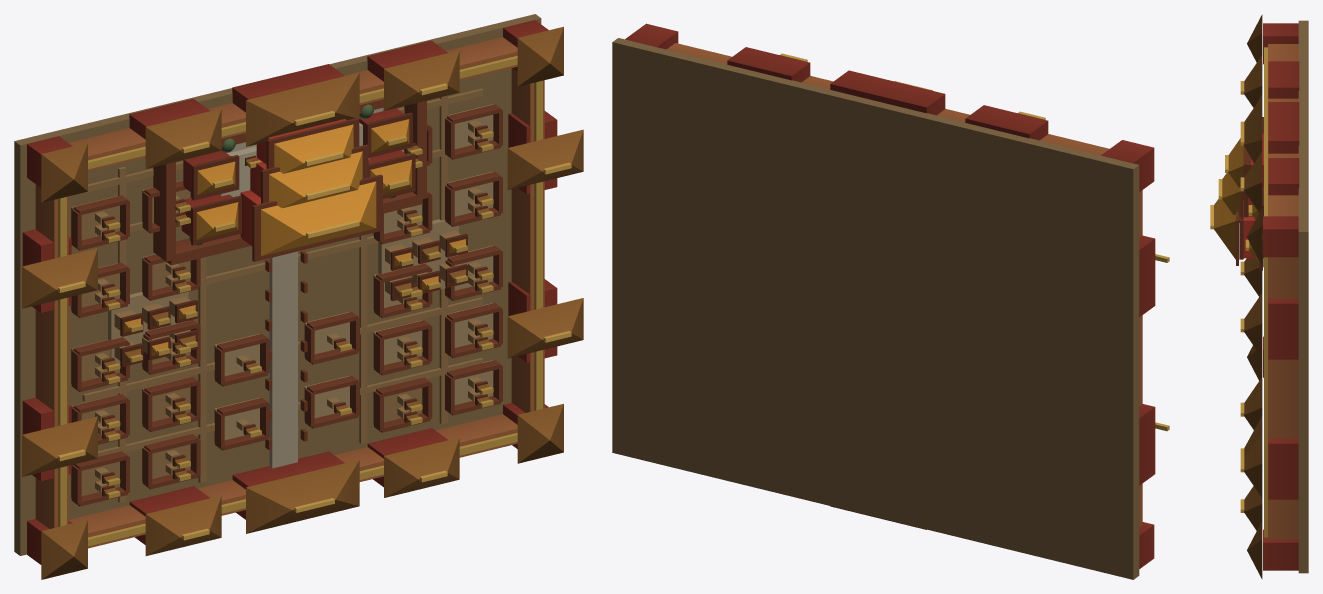
The model's file is changan.glb.
3 views of the same model, side by side, from view 1: azimuth 30°, elevation 25°; view 2: azimuth 150°, elevation 25°; view 3: azimuth 270°, elevation 25° (orthographic). The views are drawn at different scales.
Parts seen in each view (by area): view 1: part-ground, part-roofDark, part-wallDark, part-earth, part-wall, part-gate, part-gold, part-roof, part-timber, part-packed, part-stone, part-palace; view 2: part-ground, part-gate, part-wall; view 3: part-gate, part-roofDark, part-wall, part-ground, part-gold, part-roof, part-timber, part-palace.
Boxes of the visible parts, x1,y1,x2,y2 form: part-ground: [14, 14, 541, 555]; part-roofDark: [22, 26, 583, 579]; part-wallDark: [71, 99, 502, 506]; part-earth: [71, 88, 483, 502]; part-wall: [35, 37, 544, 548]; part-gate: [22, 20, 557, 564]; part-gold: [58, 56, 571, 546]; part-roof: [124, 119, 465, 356]; part-timber: [102, 112, 487, 496]; part-packed: [108, 104, 493, 442]; part-stone: [219, 108, 383, 468]; part-palace: [240, 119, 346, 245]; part-ground: [612, 38, 1139, 579]; part-gate: [625, 23, 1155, 568]; part-wall: [666, 43, 1142, 526]; part-gate: [1263, 23, 1299, 570]; part-roofDark: [1243, 14, 1262, 579]; part-wall: [1268, 44, 1298, 539]; part-ground: [1298, 20, 1308, 573]; part-gold: [1210, 47, 1267, 537]; part-roof: [1213, 138, 1259, 264]; part-timber: [1236, 117, 1263, 270]; part-palace: [1243, 133, 1263, 258].
Size of the model in its own units: 1.75 by 1.29 by 0.318.
